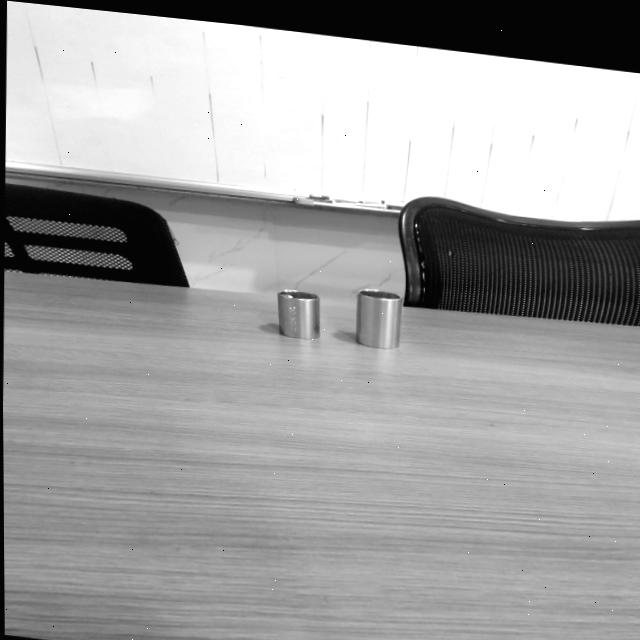Co_Lon: (352, 287, 402, 348)
Co_Nho: (276, 288, 319, 338)
